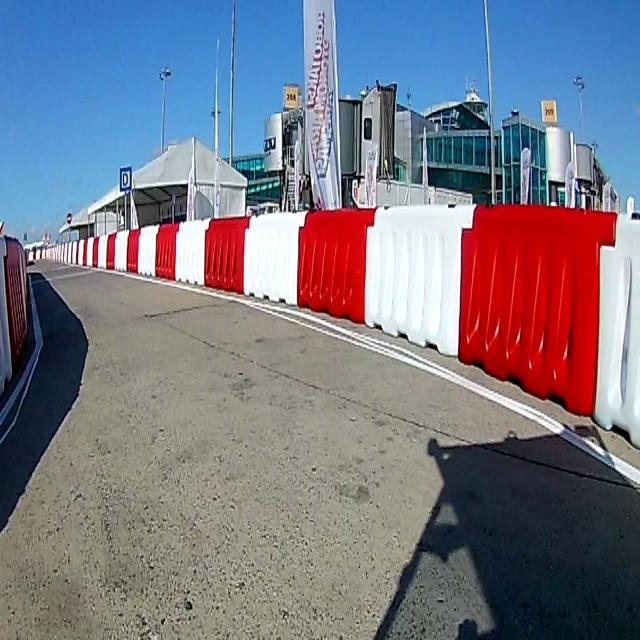durak: (120, 168, 132, 190)
